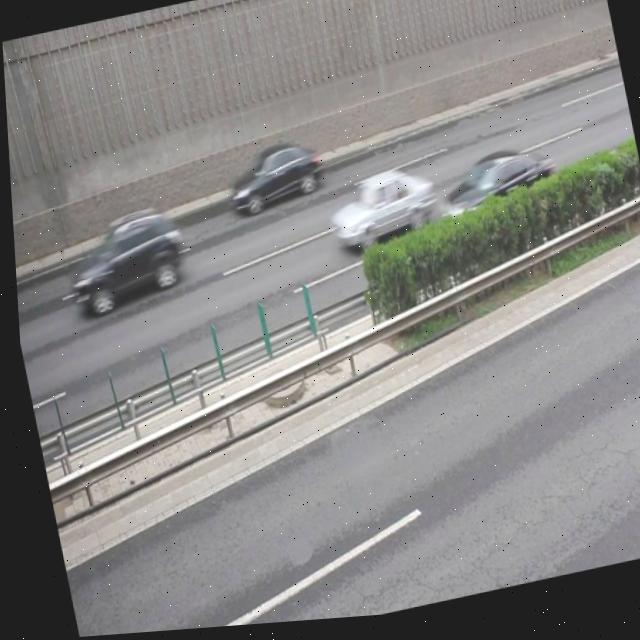car: (58, 207, 187, 320), (428, 147, 558, 239), (319, 166, 437, 258), (222, 144, 325, 220)
